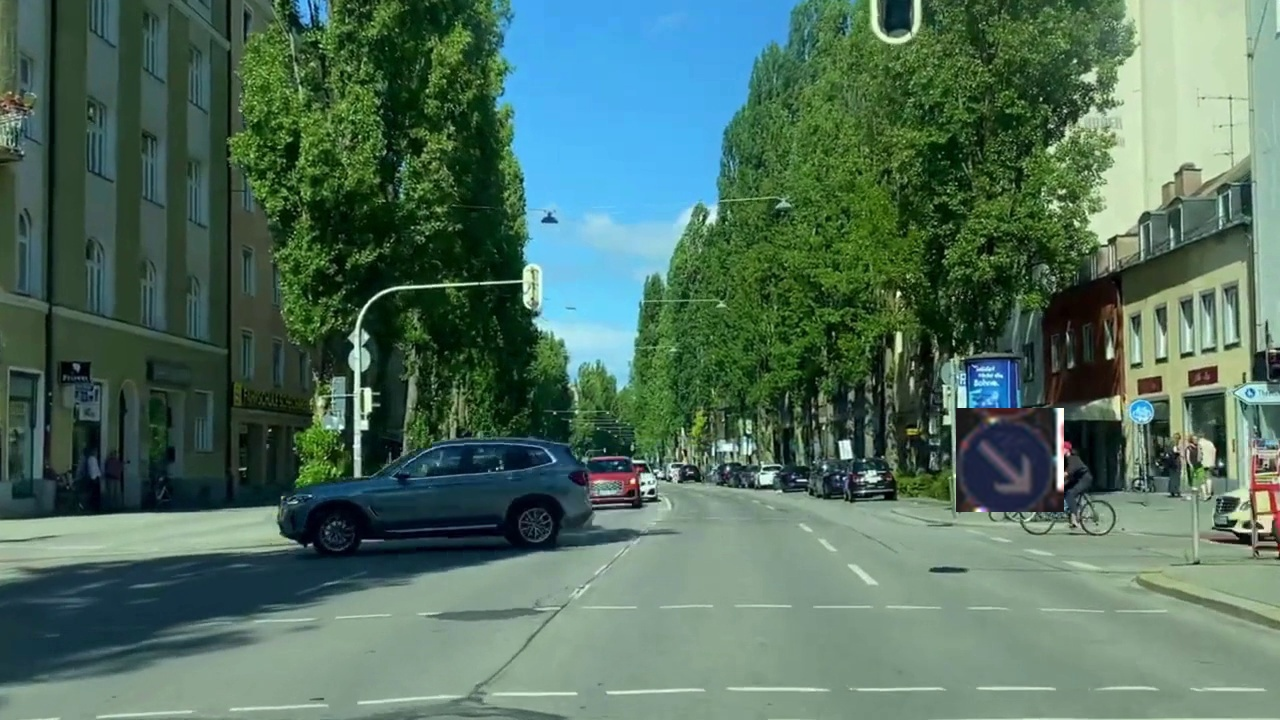Keep right: (956, 408, 1064, 512)
